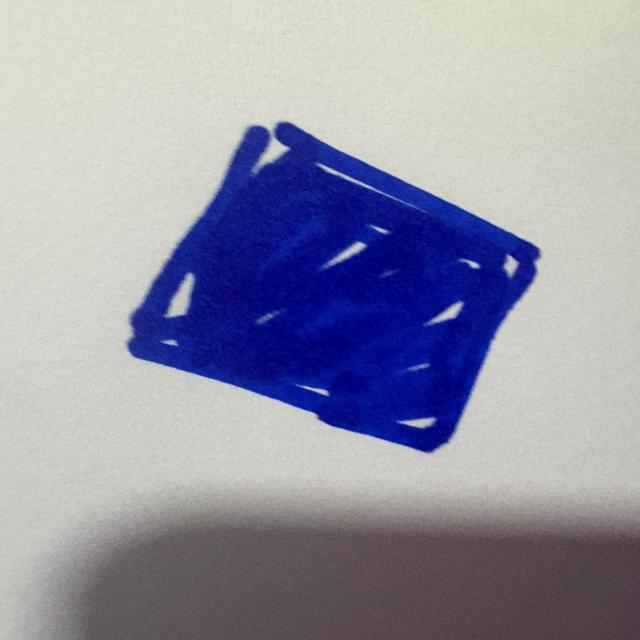Square: (128, 122, 539, 452)
